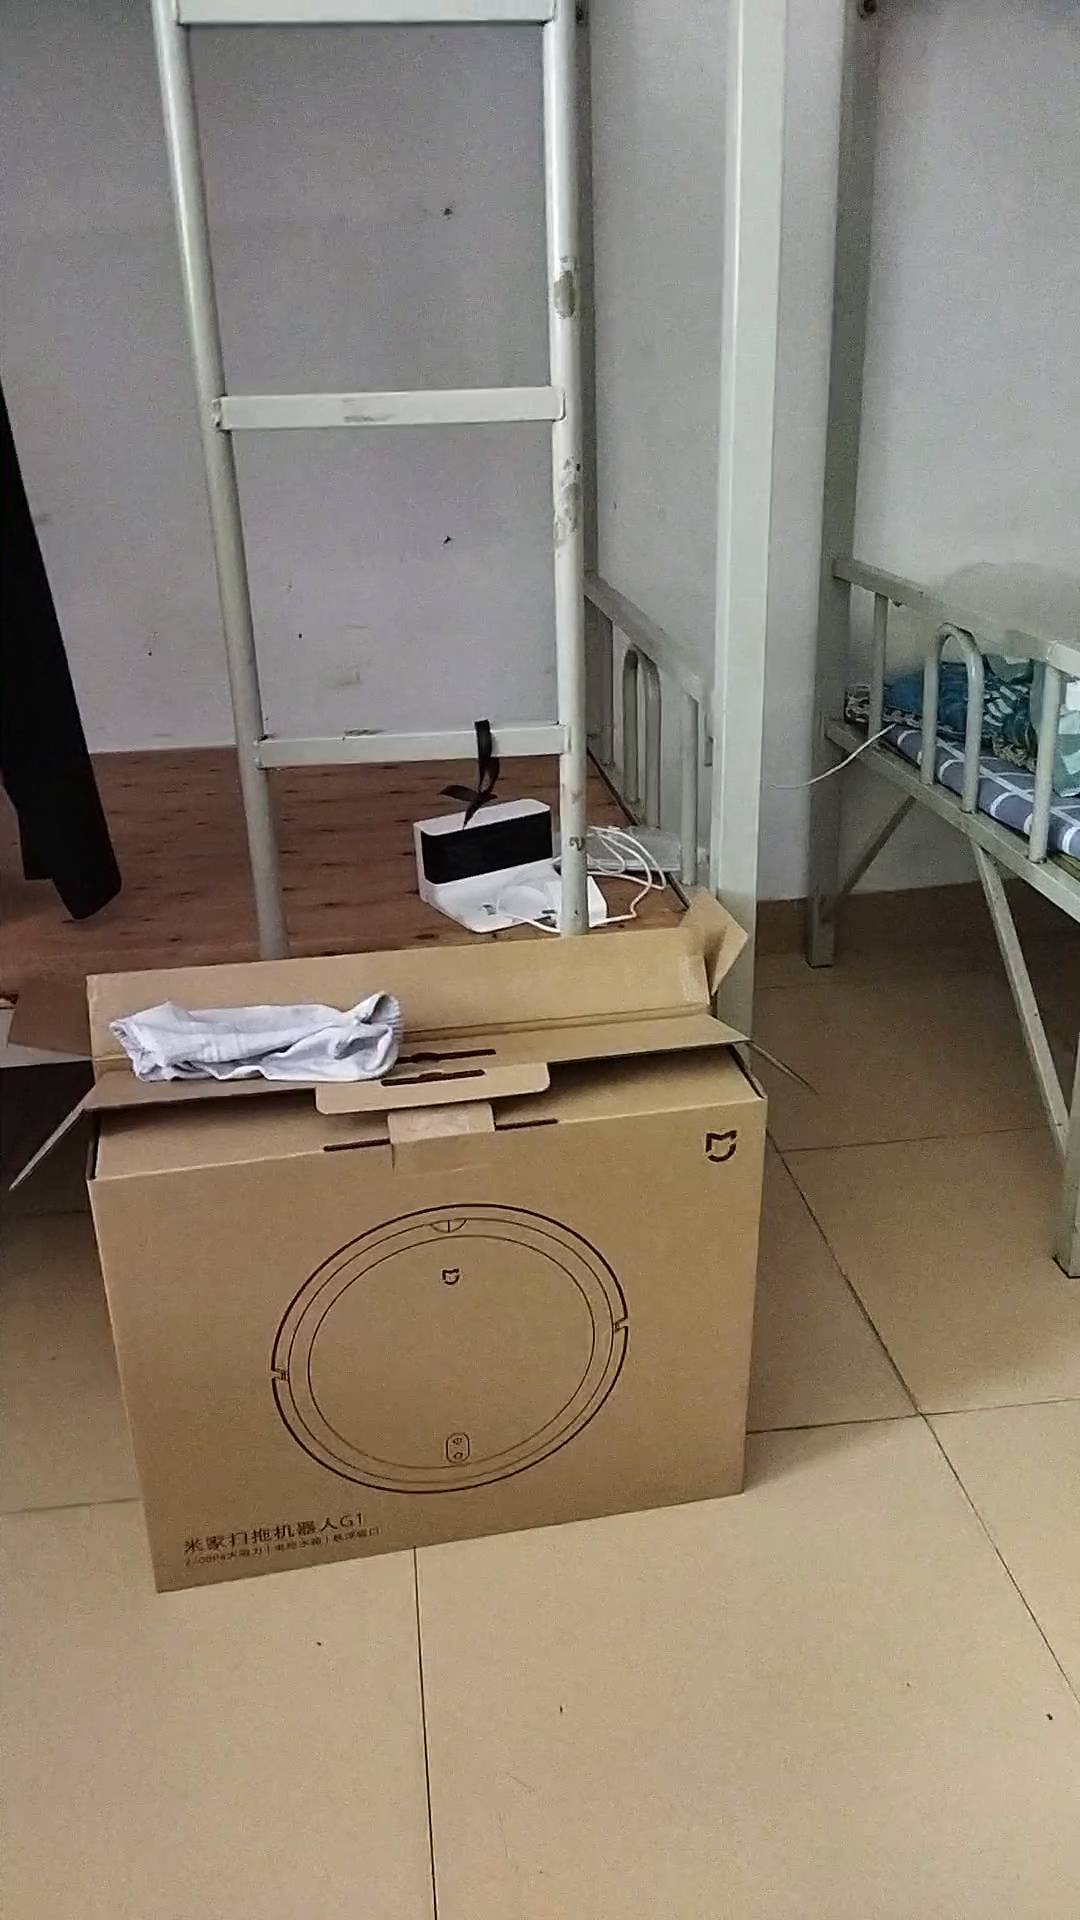recharge seat: (415, 796, 566, 934)
